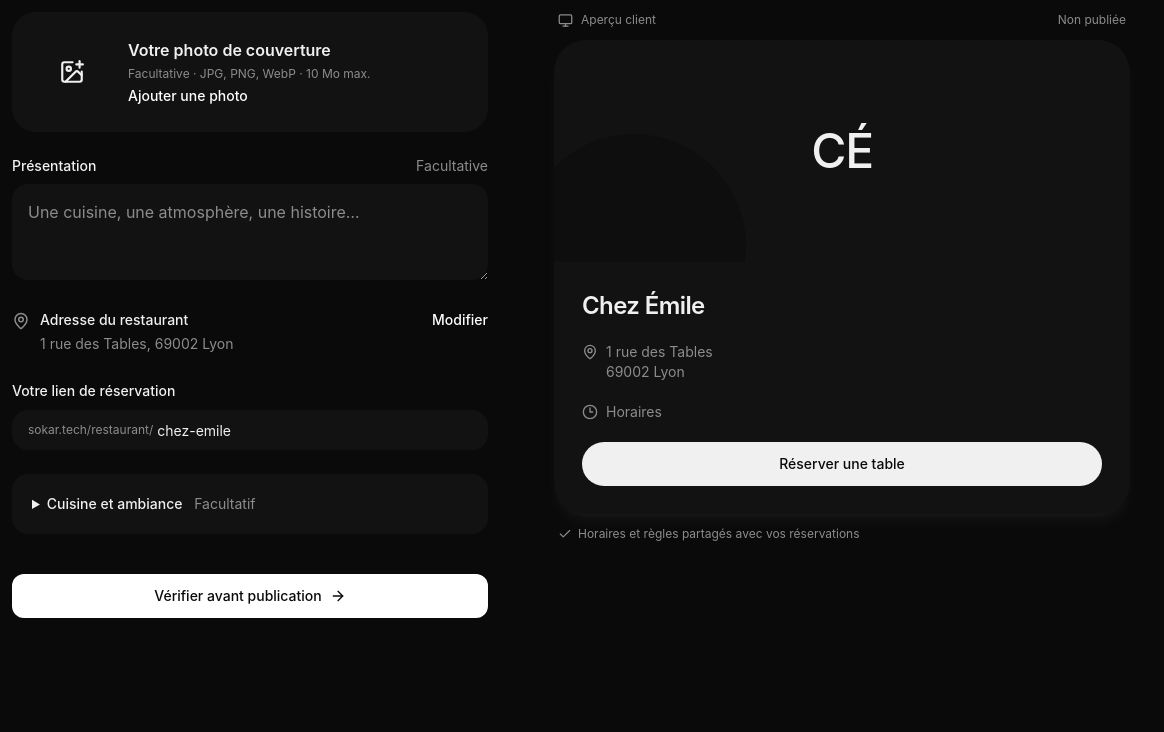
Test: ne sauvegarde pas un lien déjà utilisé
Click the button "Vérifier avant publication".
click(250, 596)  # box [12,574,488,618]
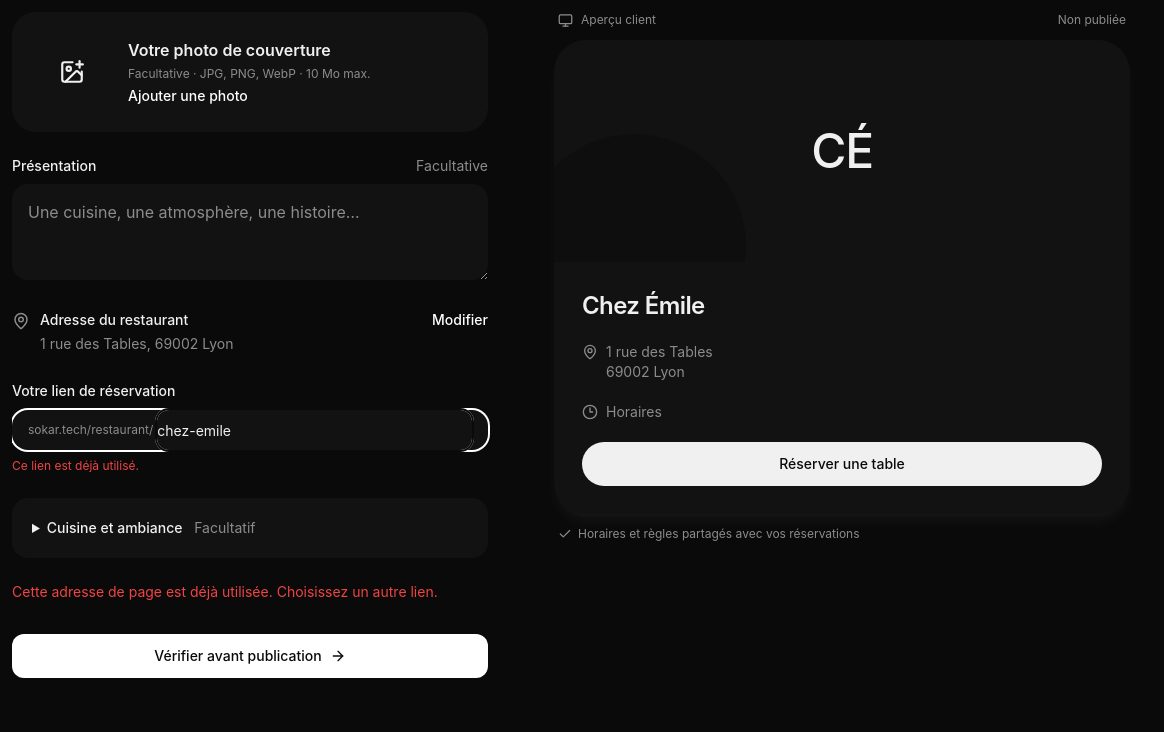
Now the message "Cette adresse de page est déjà utilisée. Choisissez un autre lien." is shown, box [12,582,488,602]
